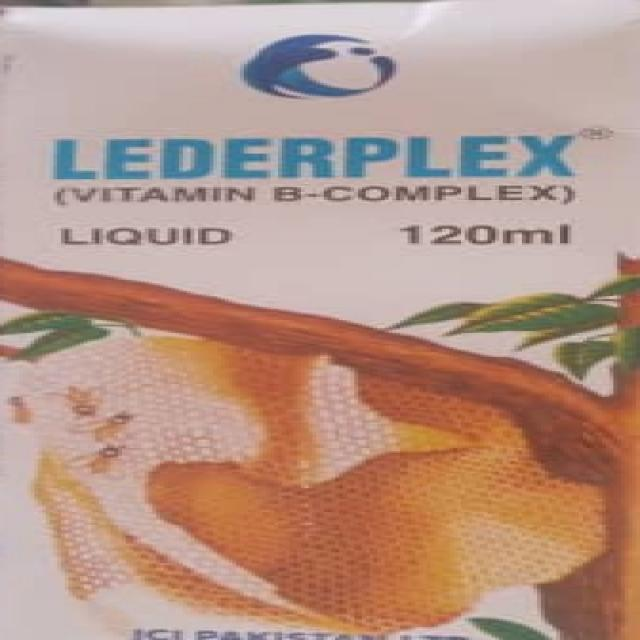drug-name: (41, 134, 576, 178)
